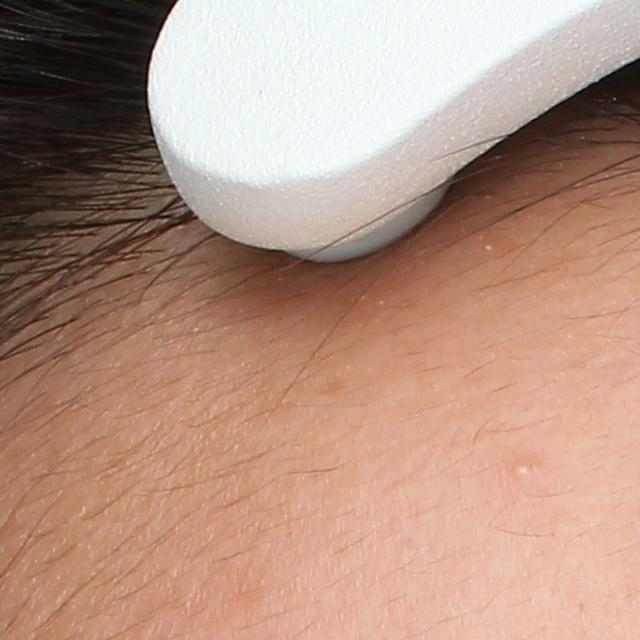pustule: (510, 455, 541, 482)
